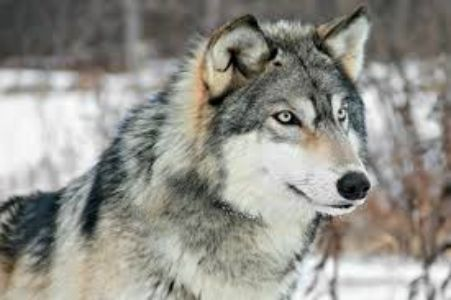wolf: (27, 10, 378, 291)
